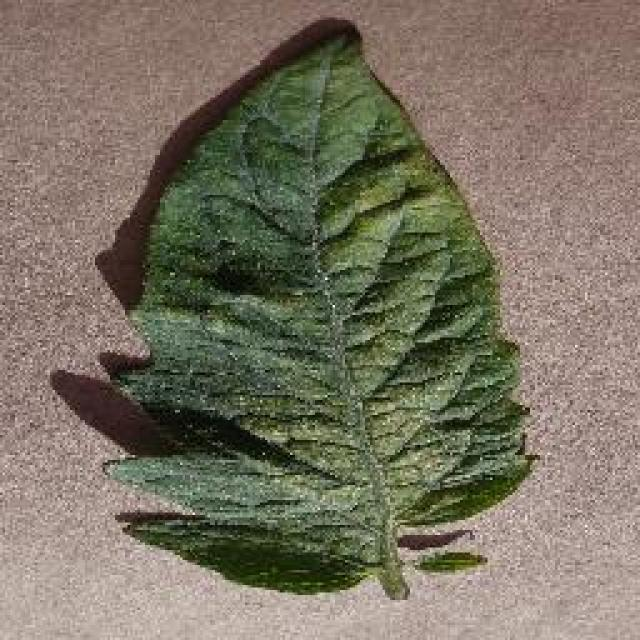Tom_Spider_mites Two-spotted_spider_mite: (183, 165, 472, 520)
